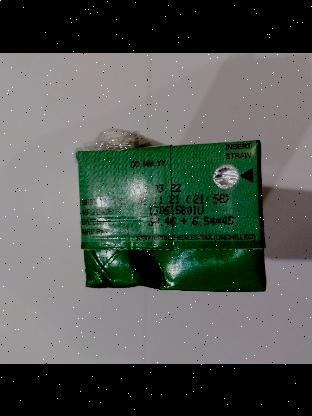Others: (73, 128, 266, 294)
